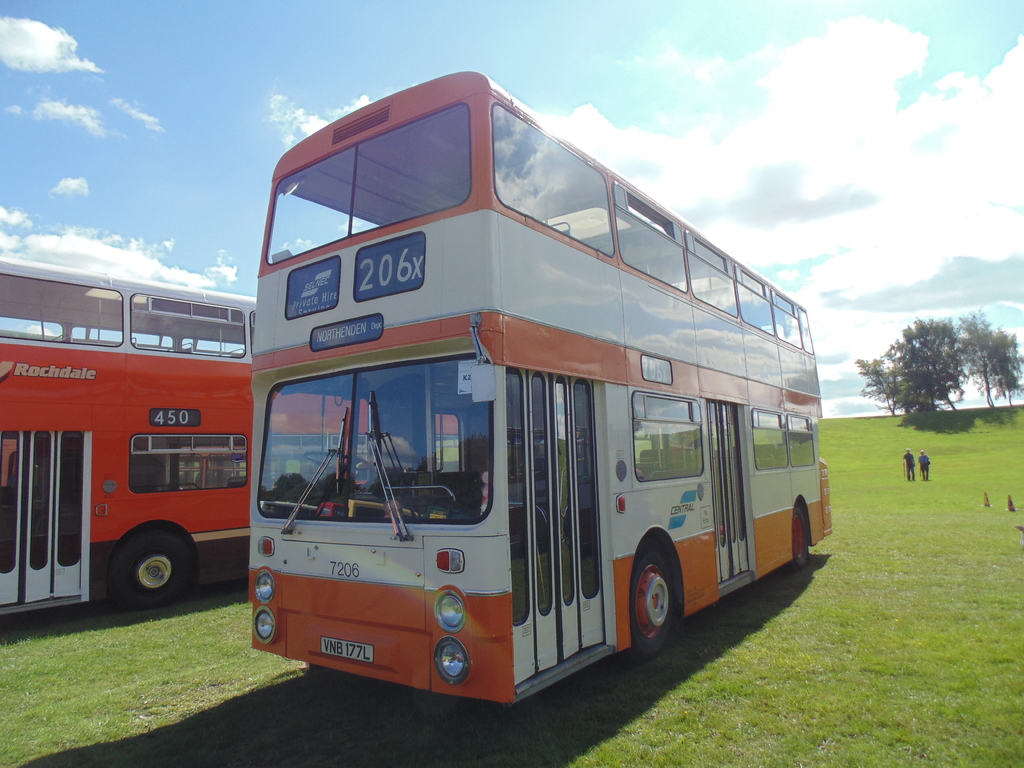Tree: (852, 325, 942, 416), (952, 306, 1003, 403), (984, 330, 1023, 404)
